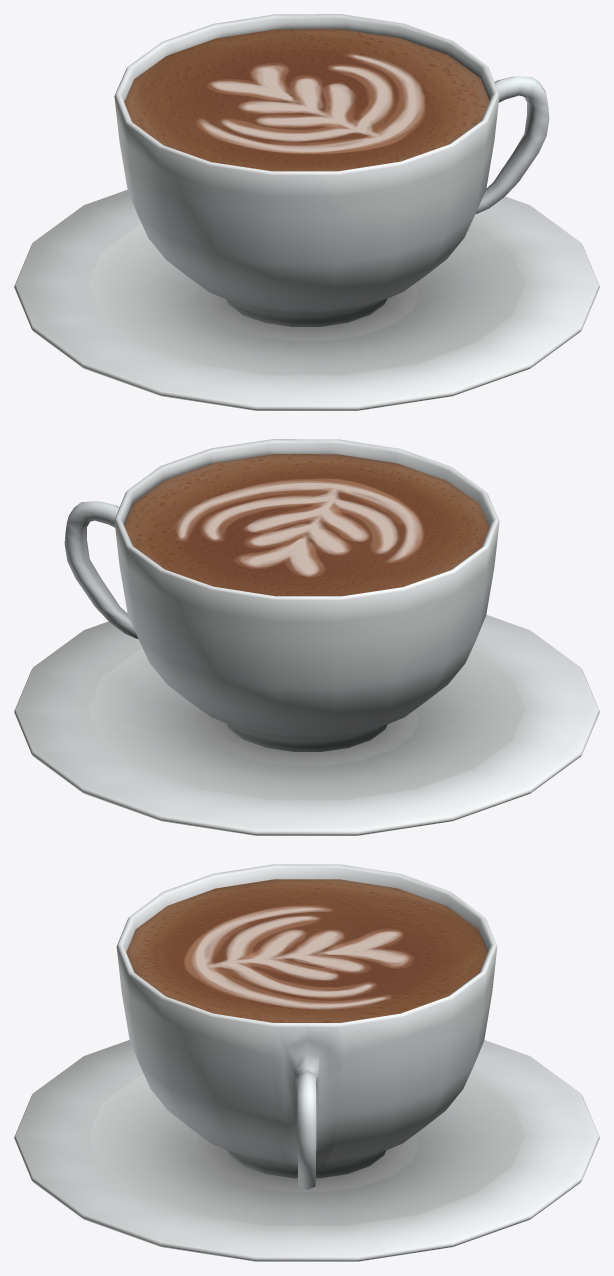
File: coffee-cup_standalone.fbx
3 views of the same model, one above another, from view 1: azimuth 30°, elevation 25°; view 2: azimuth 150°, elevation 25°; view 3: azimuth 270°, elevation 25° (orthographic).
Parts seen in each view (by area): view 1: saucer; view 2: saucer; view 3: saucer.
Part boxes in pixels (left/top/right/bottom): saucer: left=14, top=14, right=599, bottom=410; saucer: left=14, top=439, right=599, bottom=835; saucer: left=14, top=864, right=599, bottom=1261.
Bounding box in the file's own units: 25.97 × 10.5 × 26.37.
